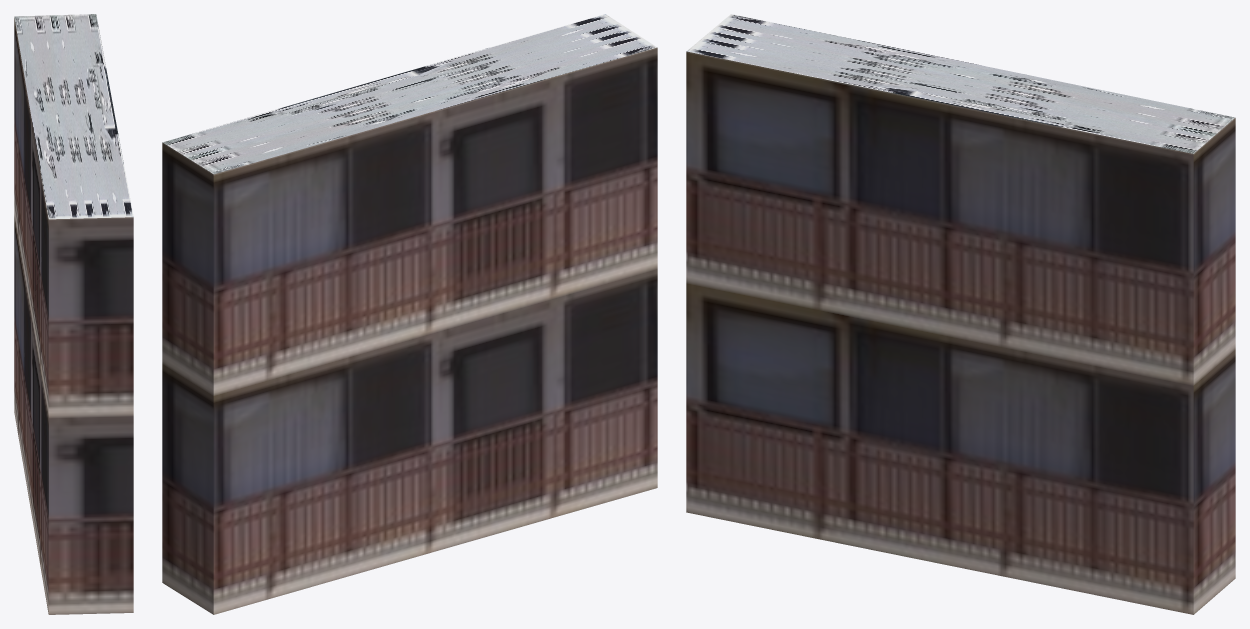
File: ResTex__893.fbx
3 views of the same model, side by side, from view 1: azimuth 30°, elevation 25°; view 2: azimuth 150°, elevation 25°; view 3: azimuth 270°, elevation 25° (orthographic). The views are drawn at different scales.
Parts seen in each view (by area): view 1: CityEngineMaterial_6_m, CityEngineMaterial_m; view 2: CityEngineMaterial_6_m, CityEngineMaterial_m; view 3: CityEngineMaterial_6_m, CityEngineMaterial_m.
Boxes of the visible parts, x1,y1,x2,y2 form: CityEngineMaterial_6_m: [14, 18, 133, 614]; CityEngineMaterial_m: [14, 14, 133, 219]; CityEngineMaterial_6_m: [162, 47, 657, 614]; CityEngineMaterial_m: [163, 14, 657, 174]; CityEngineMaterial_6_m: [686, 51, 1235, 614]; CityEngineMaterial_m: [686, 14, 1235, 153].
Bounding box in the file's own units: 3.91 × 6 × 6.48.
2 materials, 2 textured.
